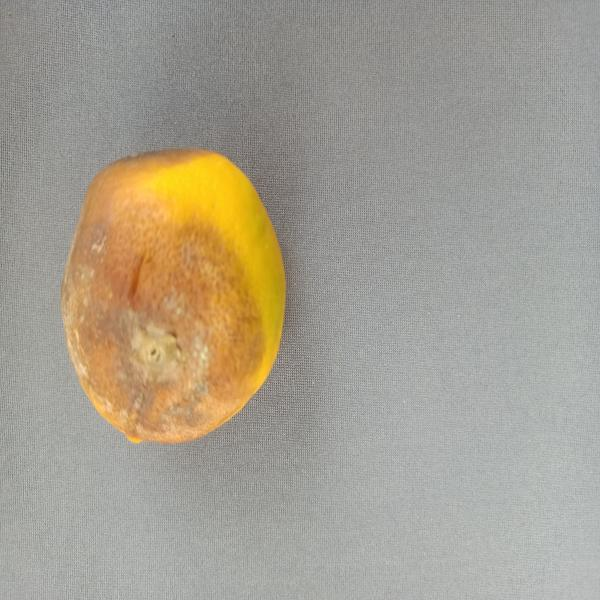Scab: (47, 126, 317, 464)
